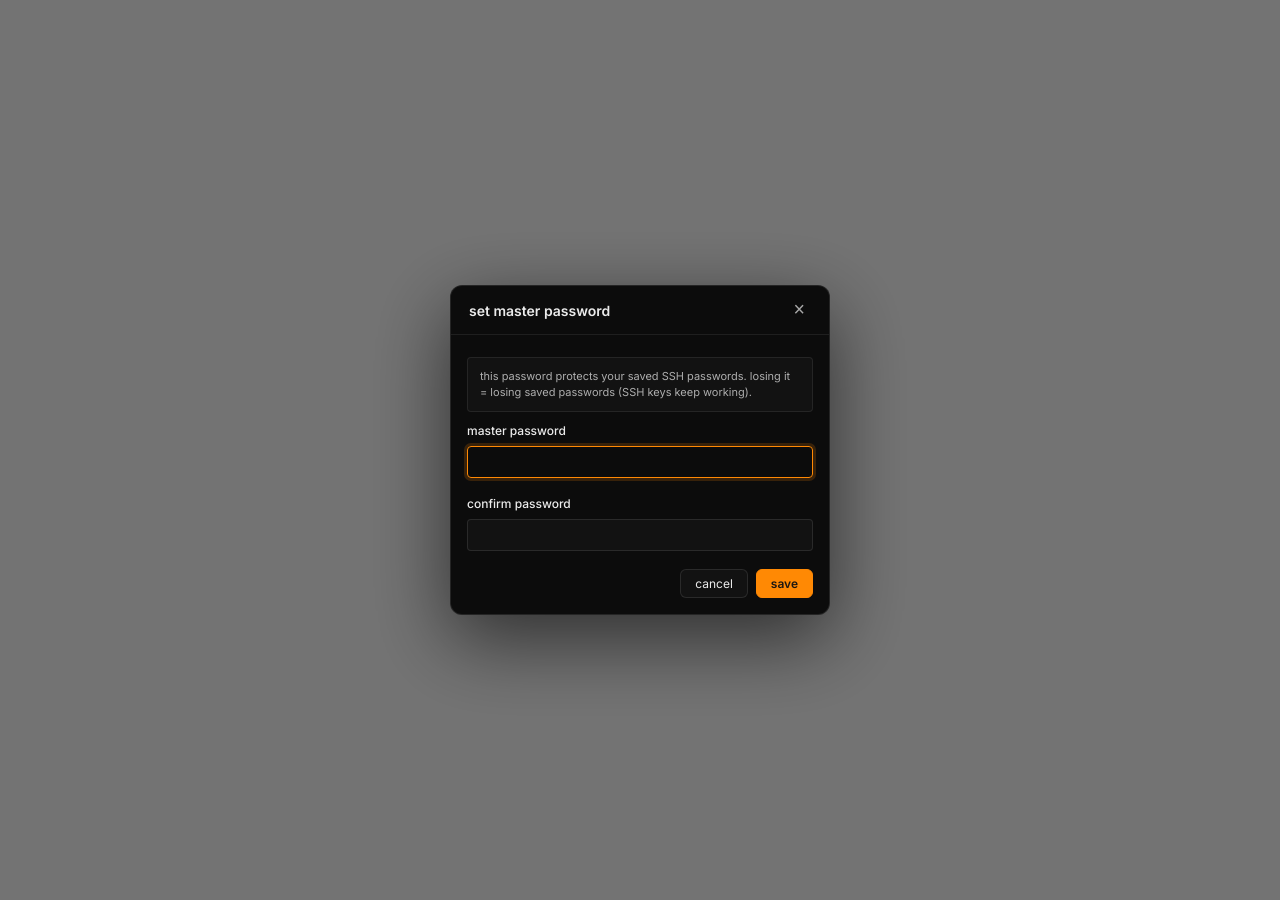
Test case: MasterPasswordModal - init mode › password shorter than 8 shows length error
Type "short" into the 1st password field with class "settings-input".
click(640, 462); type("short")  # box [467, 446, 813, 478]
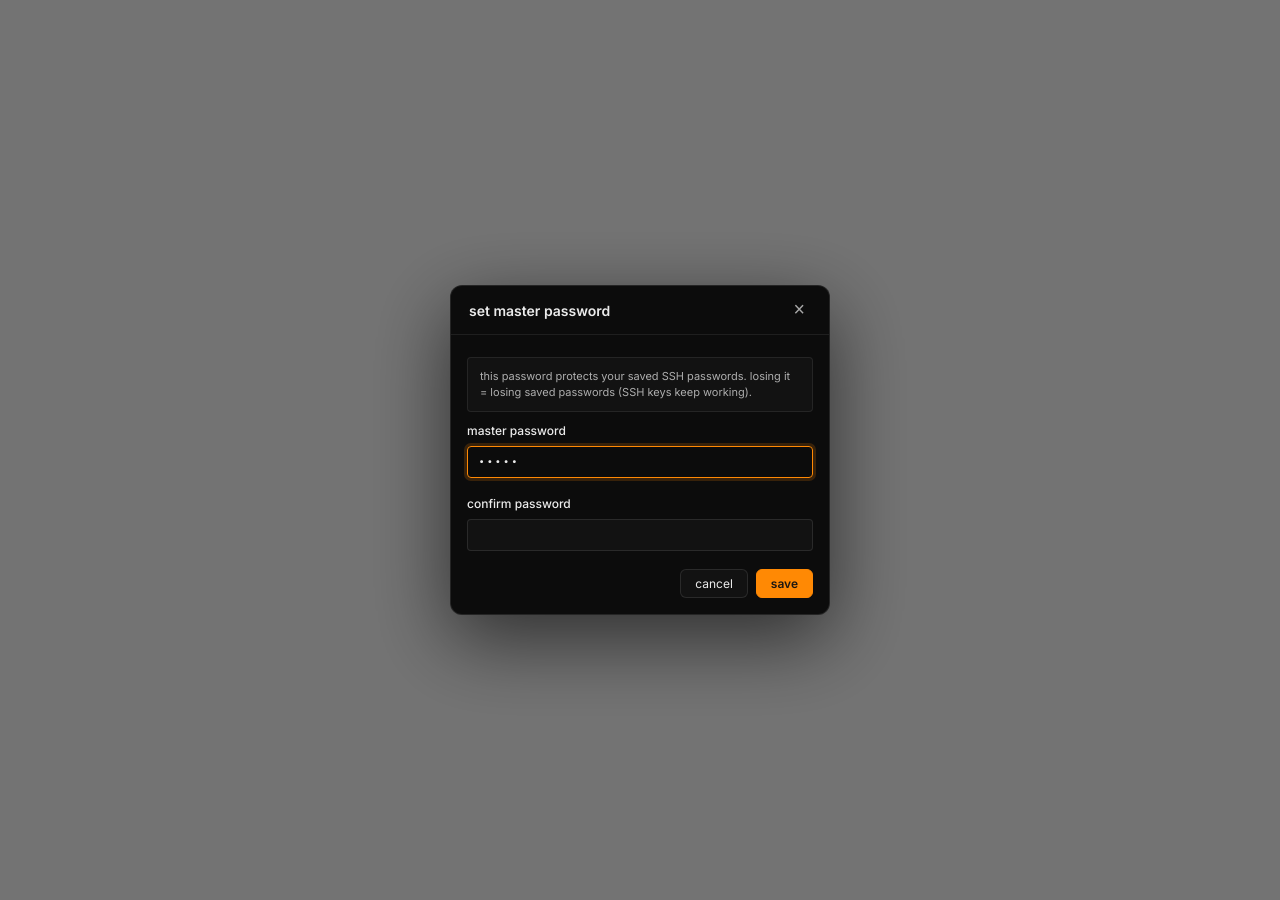
Type "short" into the password field with class "settings-input" below "confirm password".
click(640, 535); type("short")  # box [467, 519, 813, 551]
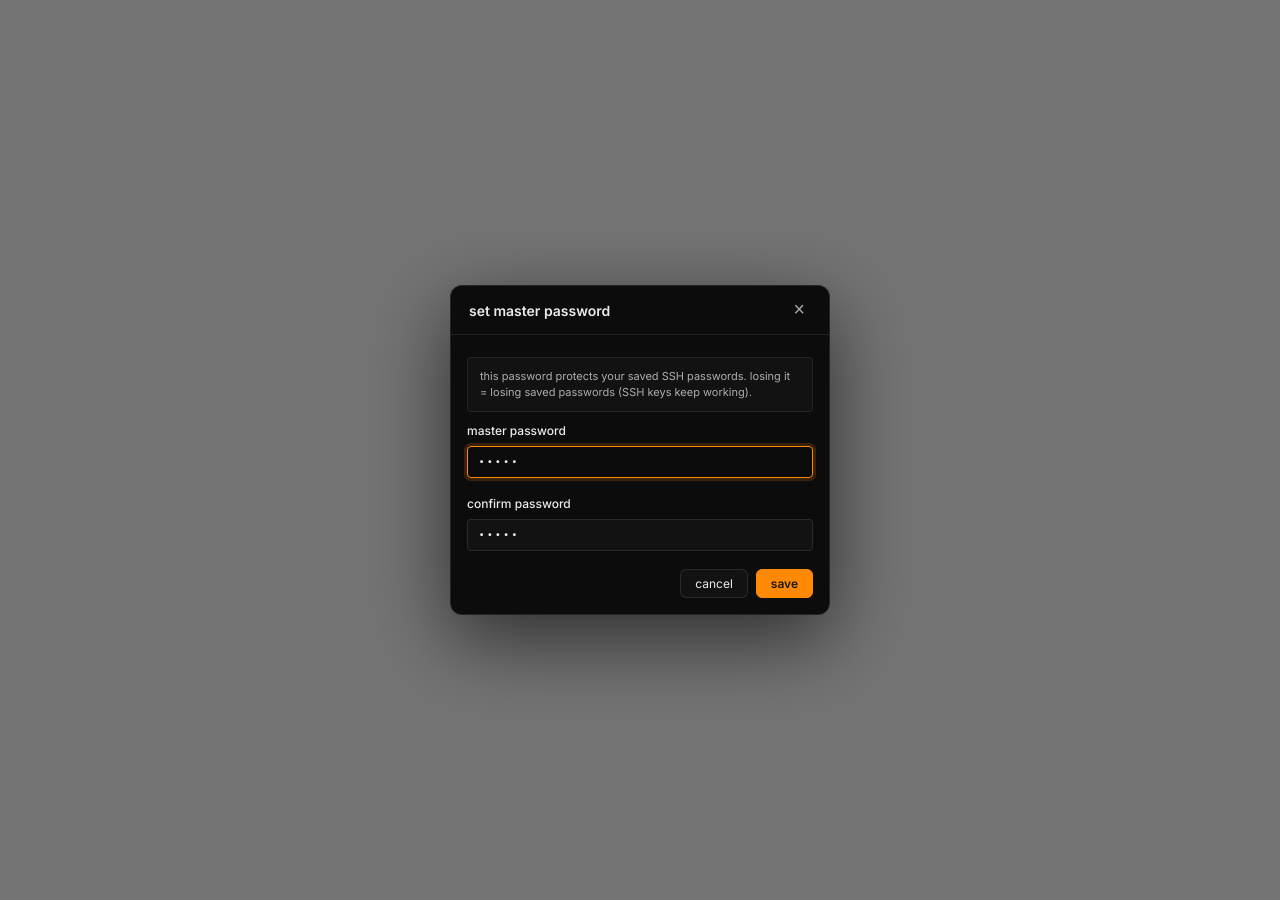
Click the button "save".
click(784, 583)  # box [756, 569, 813, 598]
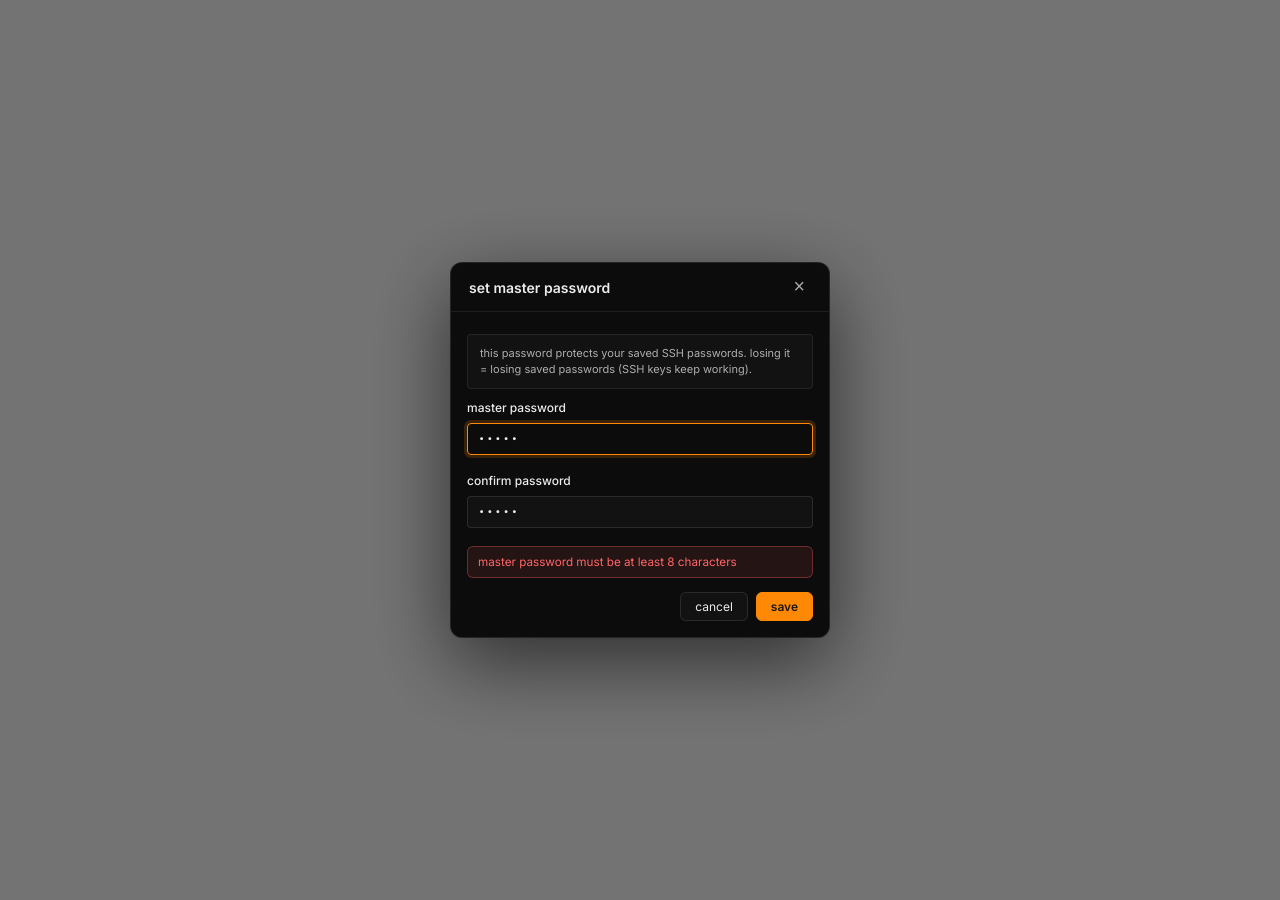
Check: the text "master password must be at least 8 characters" is shown, box [467, 546, 813, 578]
